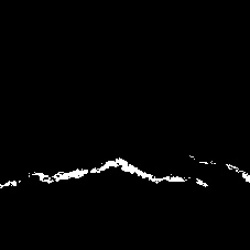crack: (31, 157, 214, 189), (187, 157, 247, 184), (2, 178, 22, 188)
